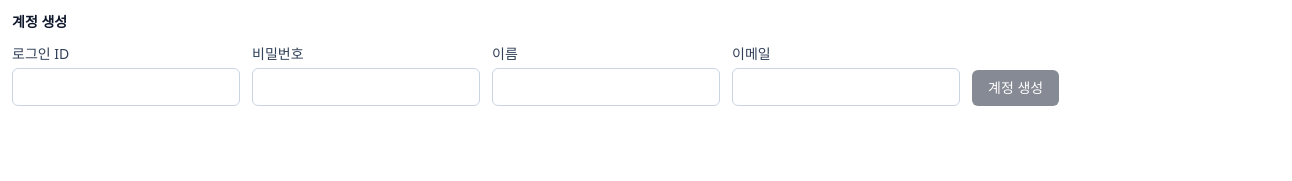
Test: AdminUserForm — 계정 생성(Req 5.2) › 중복 login_id 409 는 ErrorMessage(role=alert)로 표시한다 (Req 5.7)
Type "carol" into the field labelled "로그인 ID" at point(126, 87), box x1=12 y1=68 x2=240 y2=106
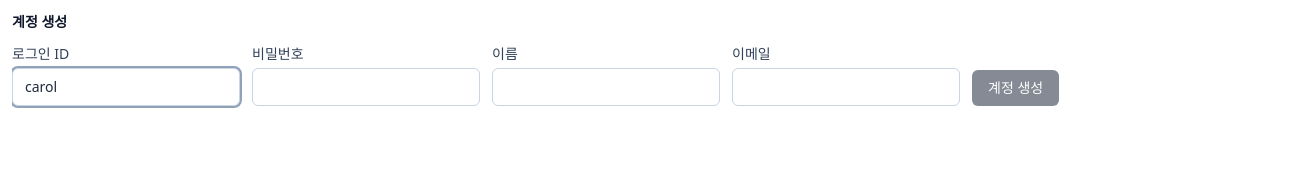
Type "pw12345678" into the password field labelled "비밀번호" at point(366, 87), box x1=252 y1=68 x2=480 y2=106
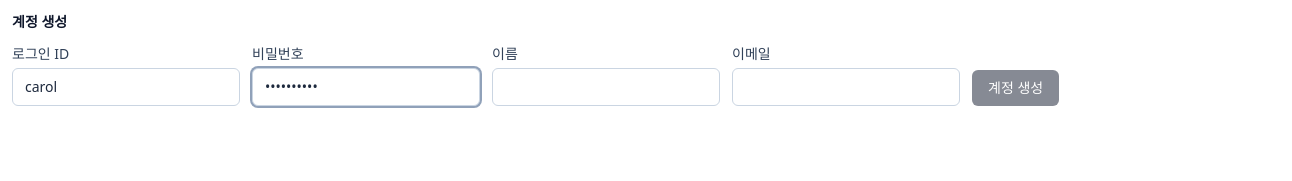
Type "캐롤" into the field labelled "이름" at point(606, 87), box x1=492 y1=68 x2=720 y2=106
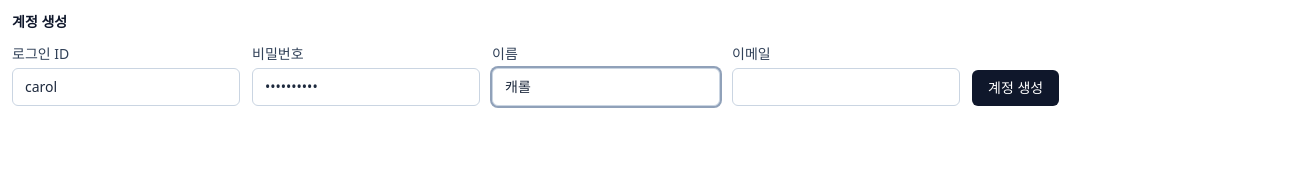
Click the button "계정 생성" at point(1016, 88), box x1=972 y1=70 x2=1059 y2=106
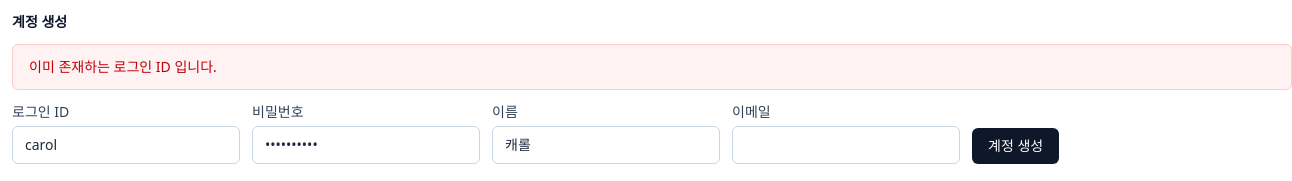
Expected: the message reads "이미 존재하는 로그인 ID 입니다.", x1=29 y1=57 x2=217 y2=76
